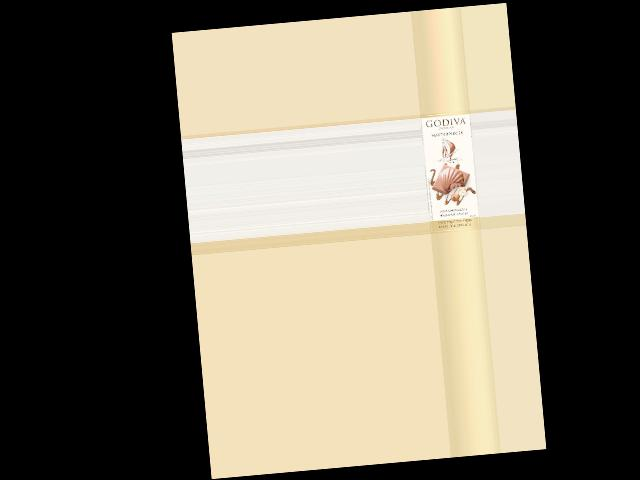chocolate: (420, 110, 480, 233)
